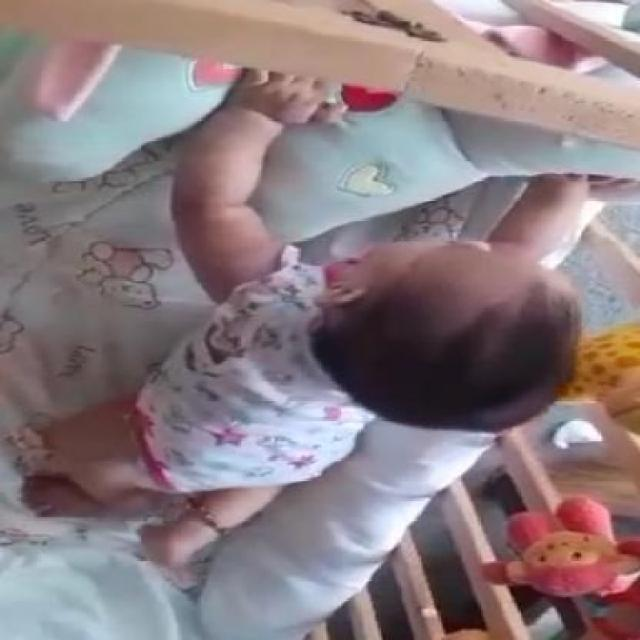baby: (19, 66, 582, 568)
